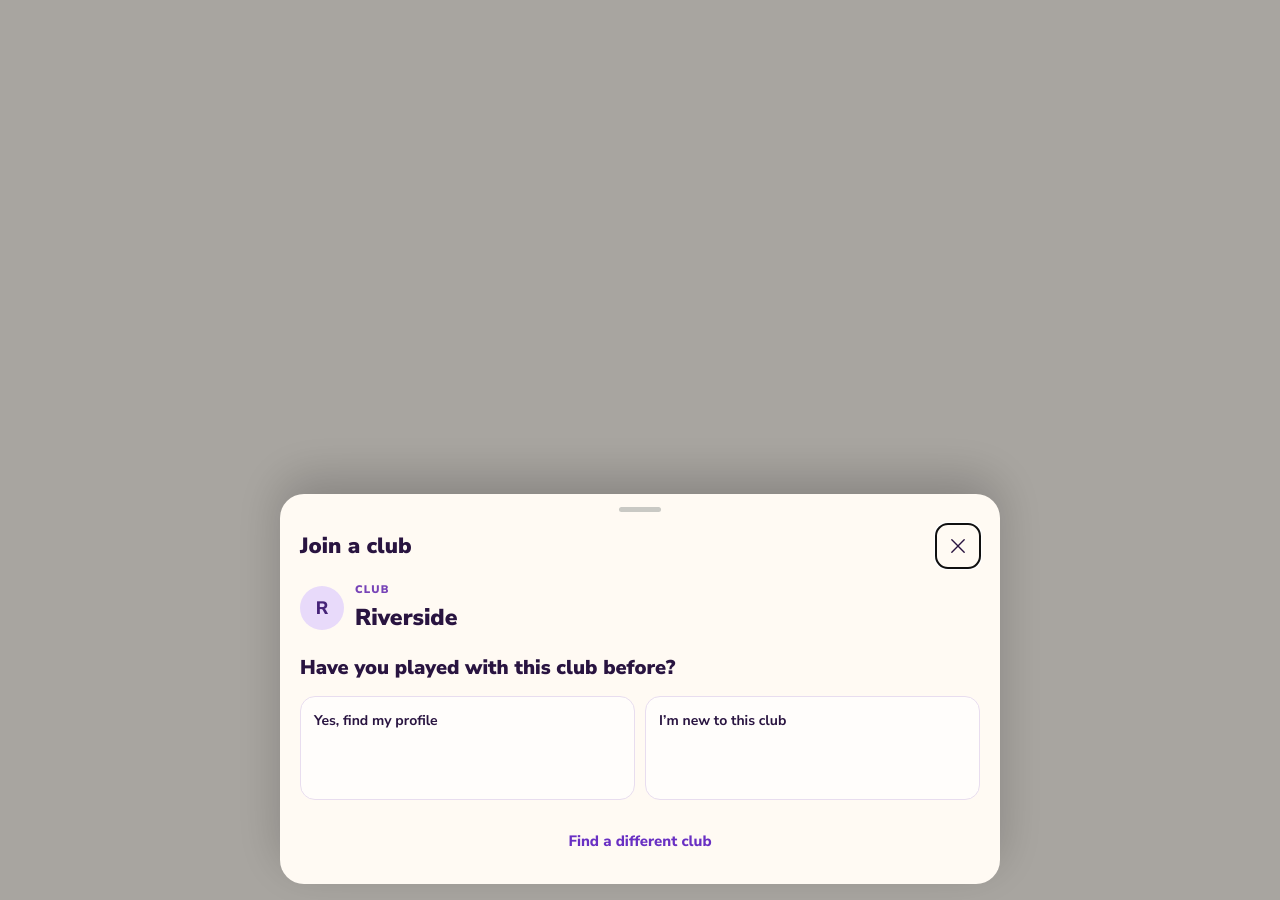
Test: JoinClubAdmission › submits a played-before claim against the selected Player ID
Click the button "Yes, find my profile".
click(376, 720)  # box [300, 696, 635, 800]
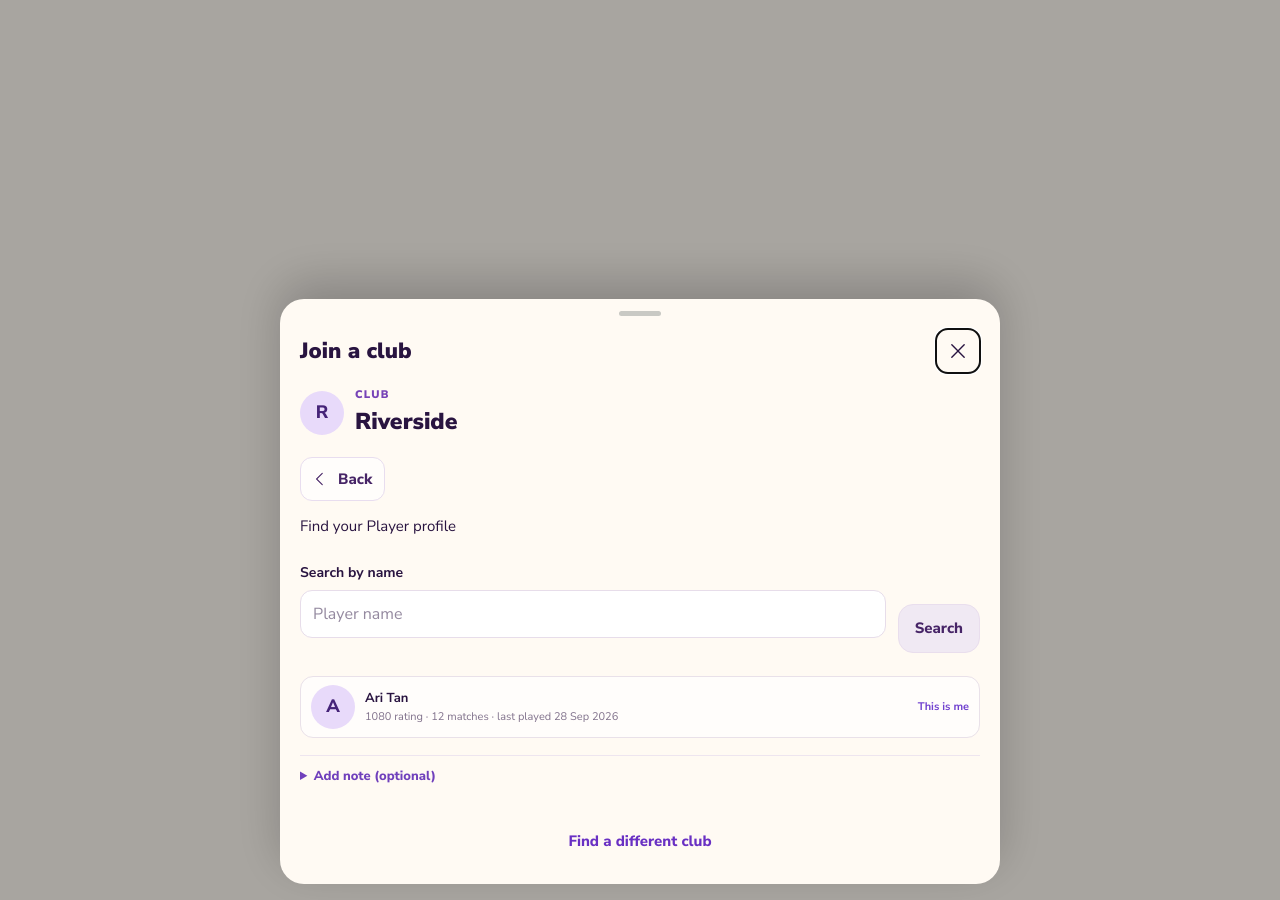
Click the button that starts with "Ari Tan".
click(333, 707)  # box [300, 676, 980, 738]
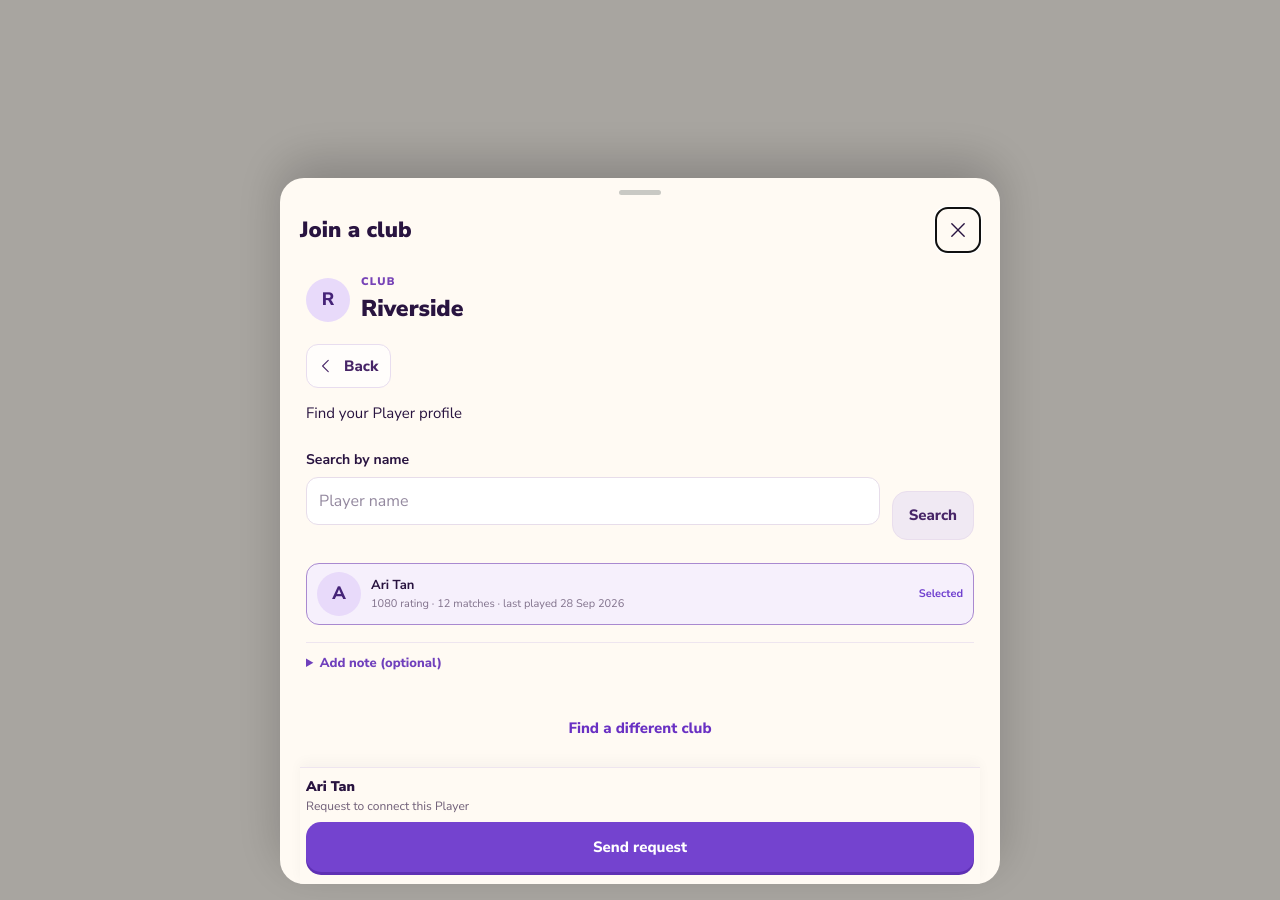
Click the button "Send request".
click(640, 847)  # box [306, 822, 974, 872]
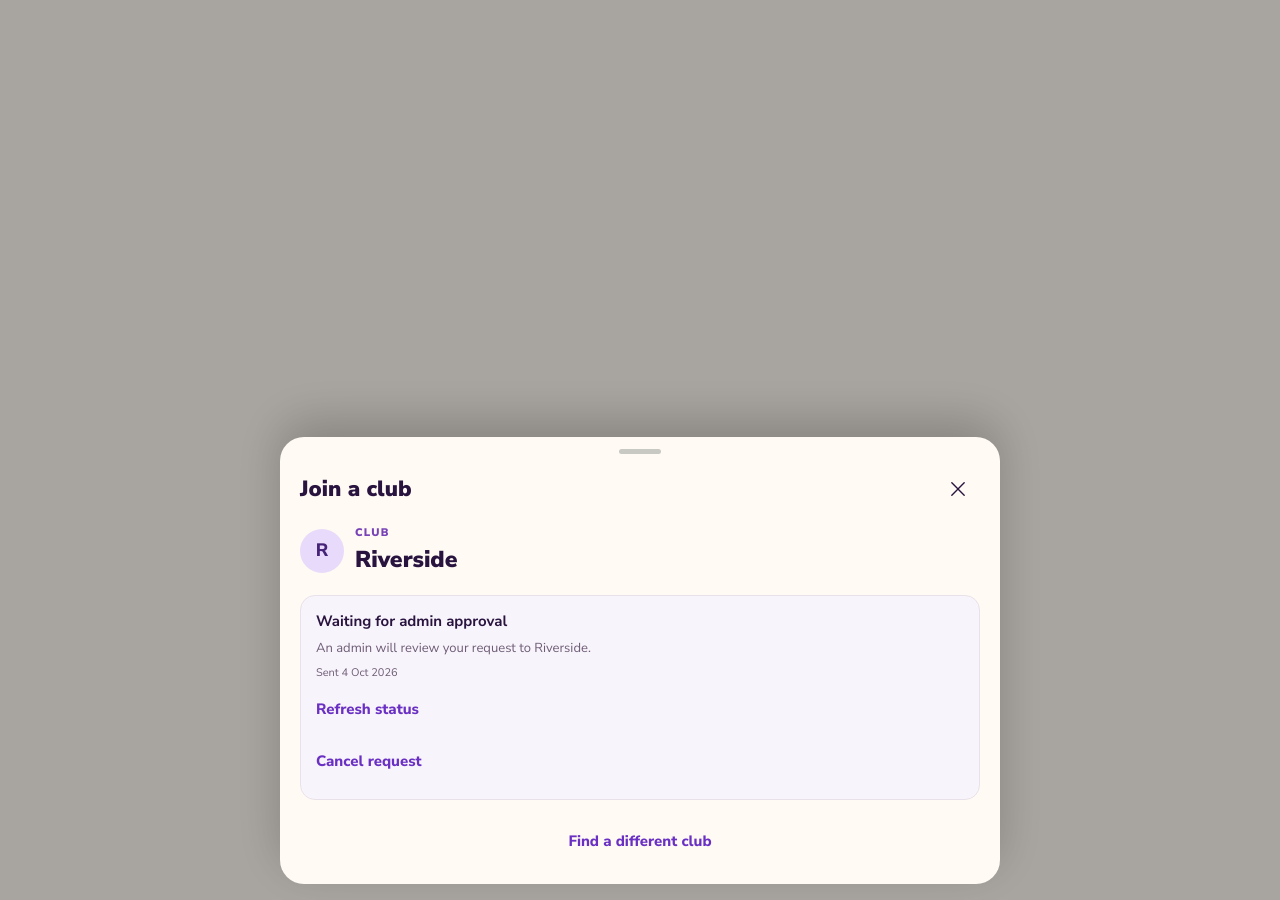
Result: the text "Waiting for admin approval" is shown at [316, 611, 507, 631]
